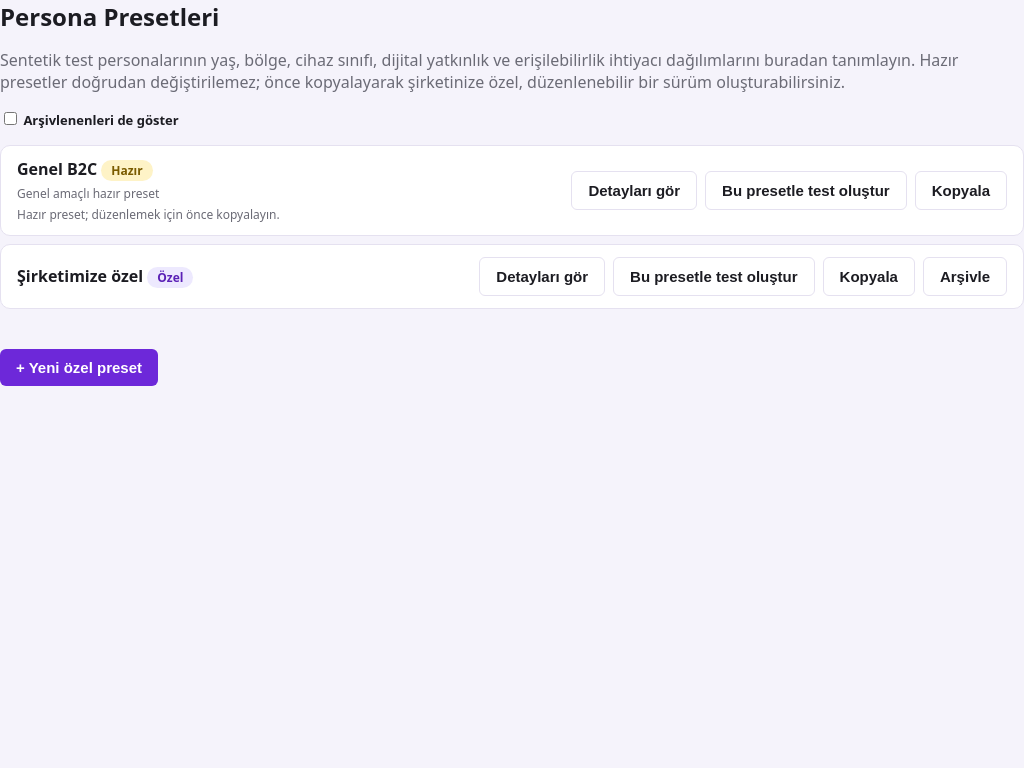
Scenario: PersonaPresets › 'Detayları gör' preset dagilimini gosteren bir dialog acar
The width and height of the screenshot is (1024, 768).
Expected: the text "Genel B2C" is shown, [17, 158, 97, 180]
Click the button "Detayları gör" in the row of "Genel amaçlı hazır preset" at (634, 190), box [571, 171, 697, 210]
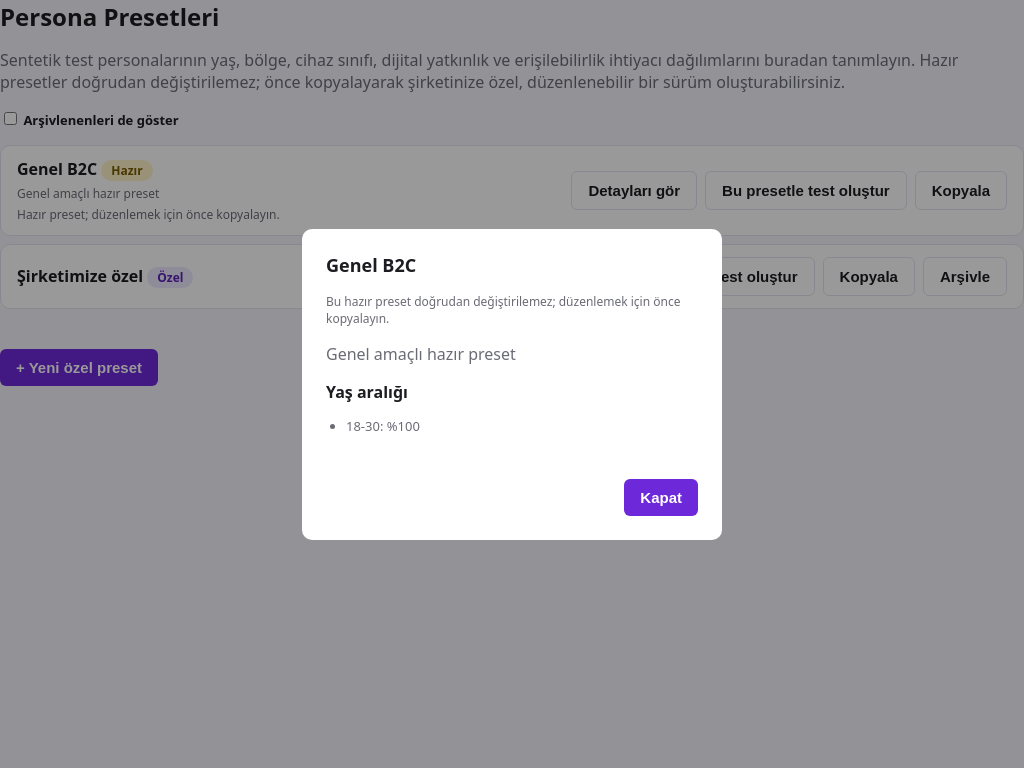
Expected: the dialog is shown, [302, 228, 722, 540]
Expected: the text "Yaş aralığı" is shown, [326, 380, 408, 402]
Expected: the list item "18-30: %100" is shown, [346, 416, 420, 434]
